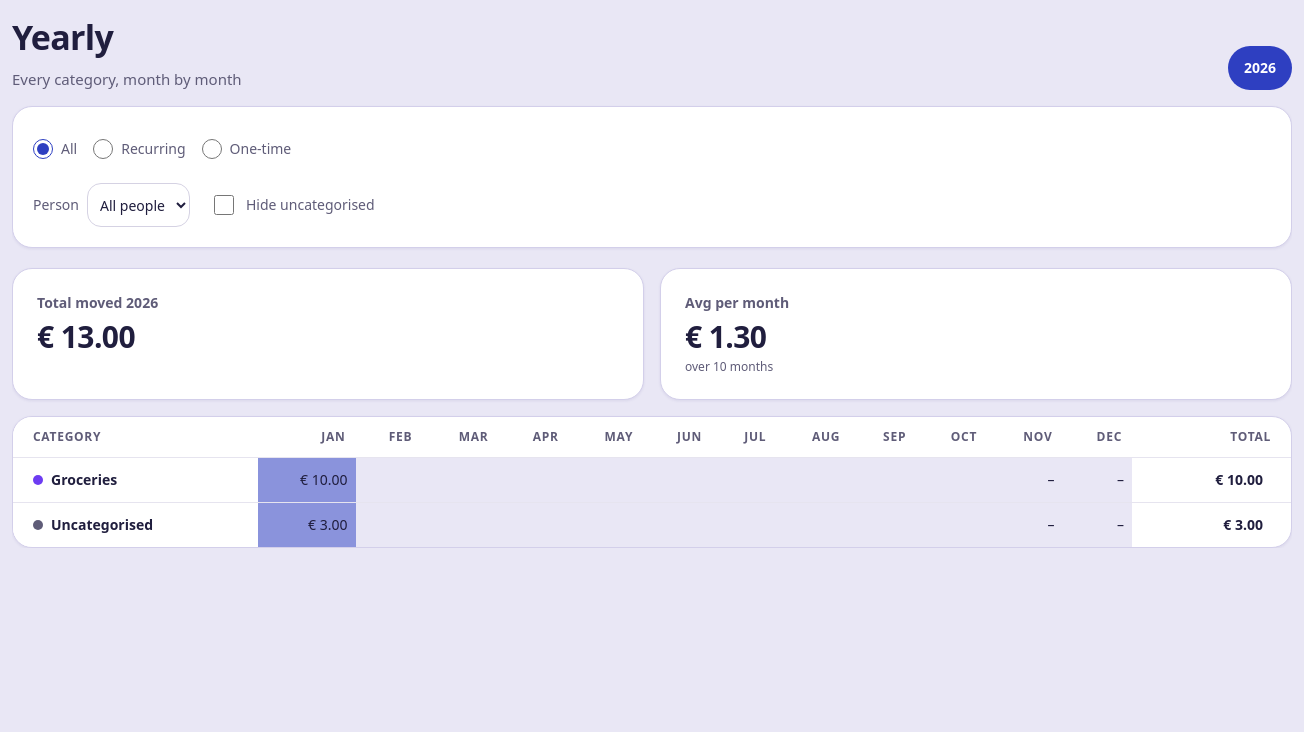
Test: yearly page › hides uncategorised from rows and cards and restores it
Expected: the number of rows with test id "yearly-row" is 2, [13,458,1291,503]; [13,503,1291,547]
Click the checkbox with test id "hide-uncategorised" at (224, 205), box [214,195,234,215]
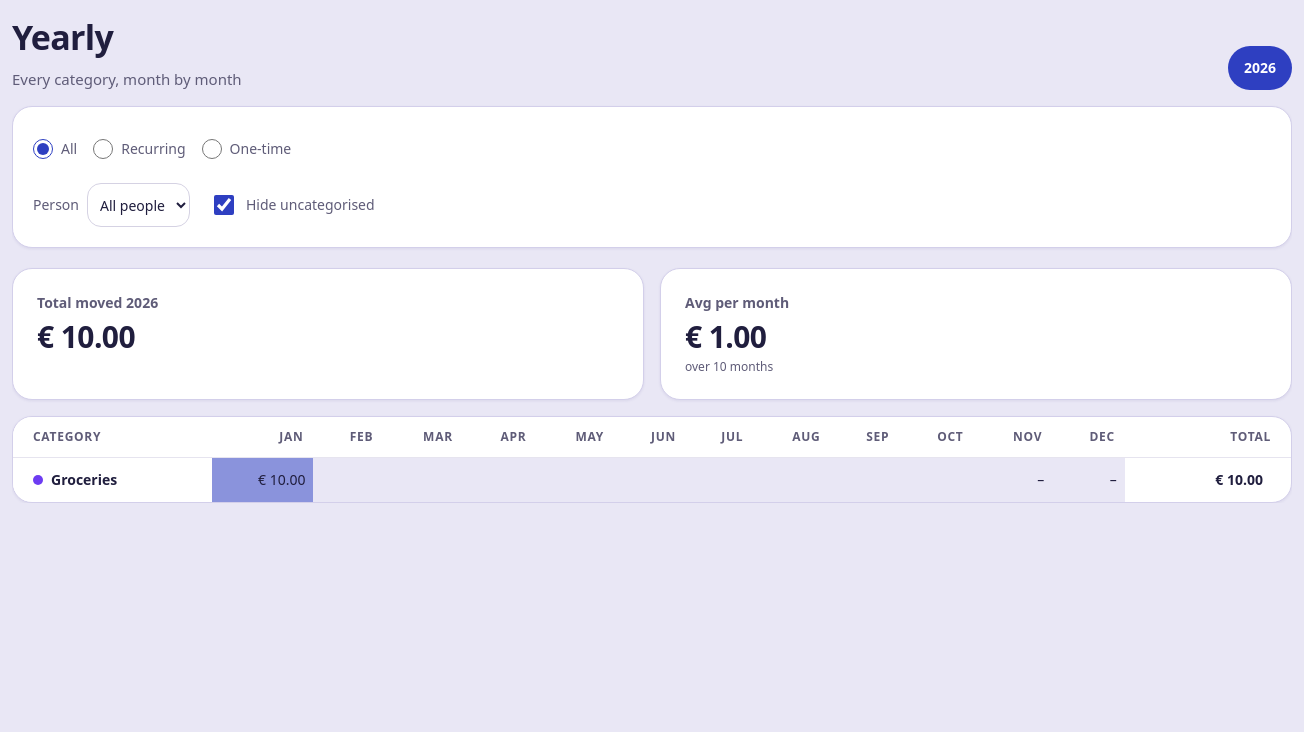
Result: the number of rows with test id "yearly-row" is 1 at [13,458,1291,502]
Click the checkbox with test id "hide-uncategorised" at (224, 205), box [214,195,234,215]
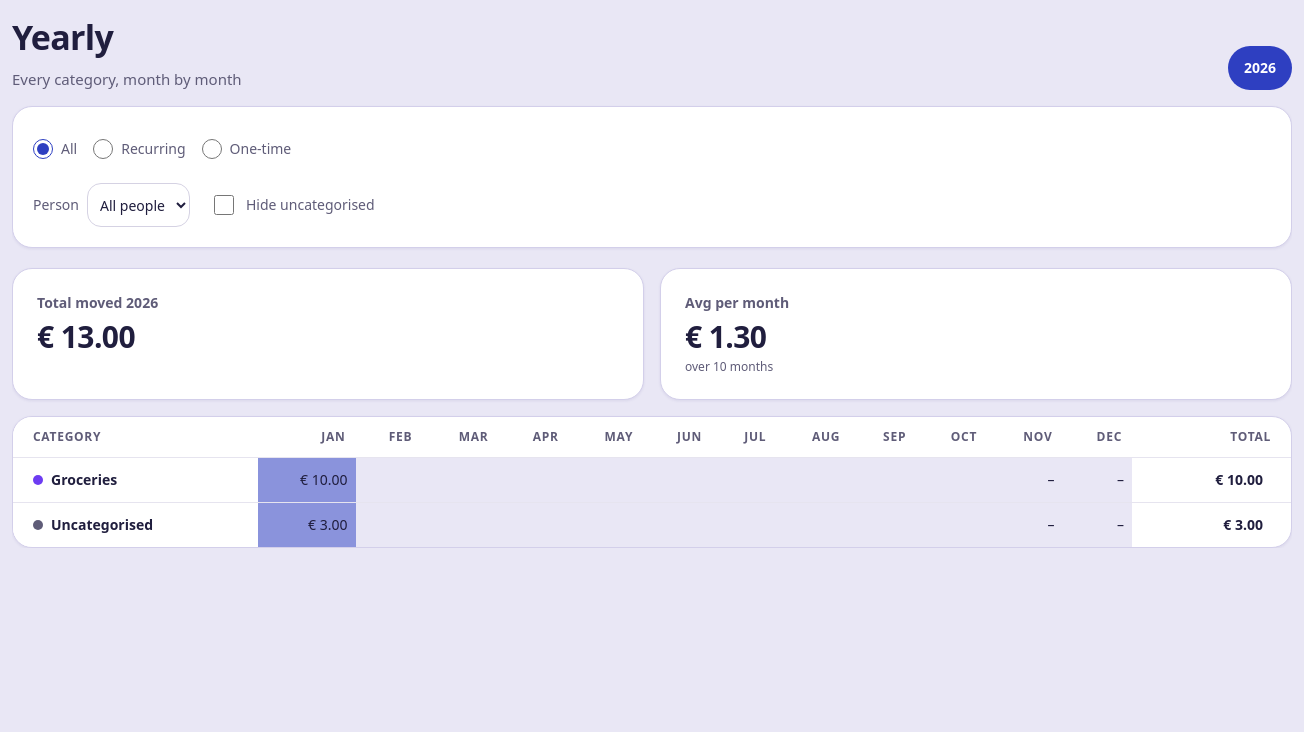
Result: the number of rows with test id "yearly-row" is 2 at [13,458,1291,503]; [13,503,1291,547]
